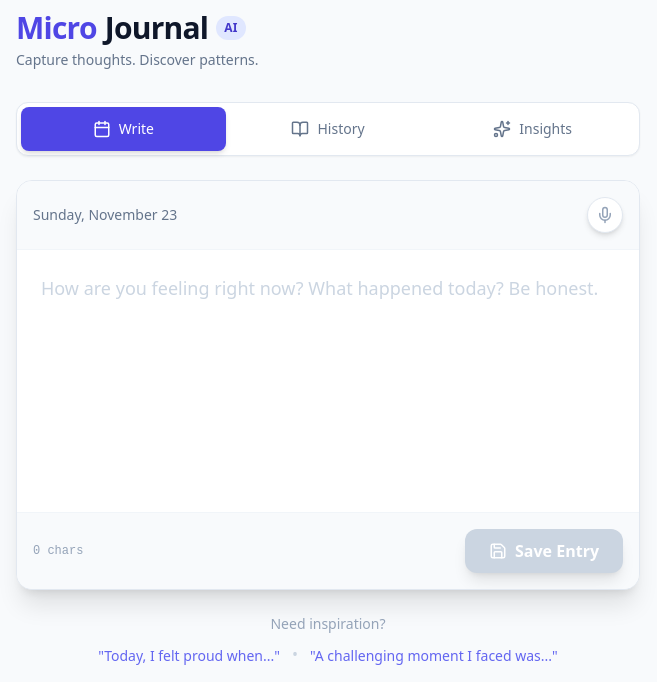
Test: App › switches between write, history, and insights views
The width and height of the screenshot is (657, 682).
Click the button "History" at (328, 129), box [226,107,430,151]
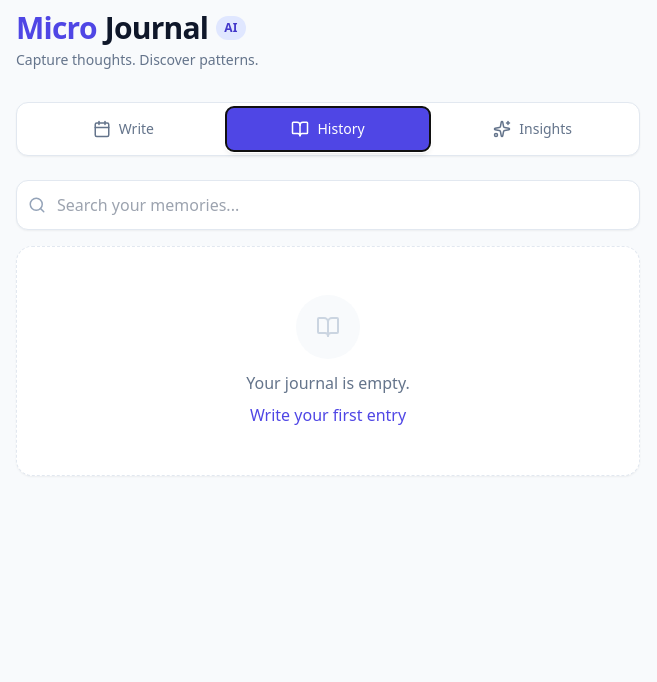
Expected: the field with placeholder "Search your memories..." is shown, [16,180,640,230]
Click the button "Insights" at (533, 129), box [430,107,635,151]
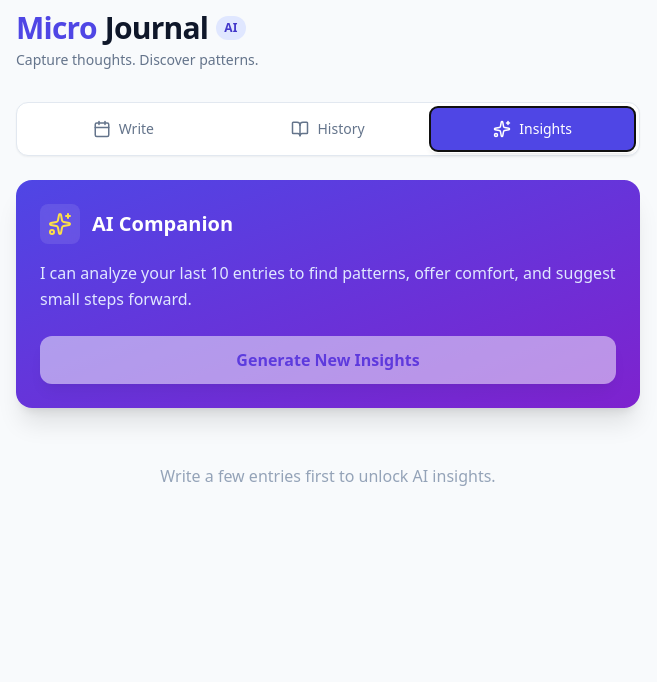
Expected: the heading "AI Companion" is shown, [92,210,233,238]
Click the button "Write" at (123, 129), box [21,107,226,151]
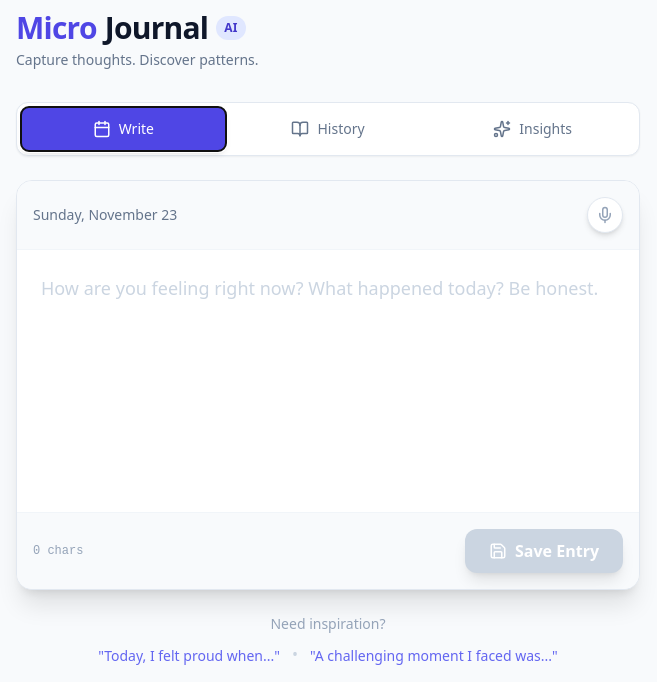
Expected: the text box with placeholder "How are you feeling right now?" is shown, [17,250,639,506]
